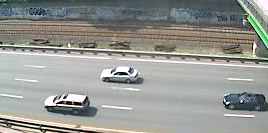car: (43, 91, 93, 116), (220, 89, 267, 114), (99, 65, 144, 86)
